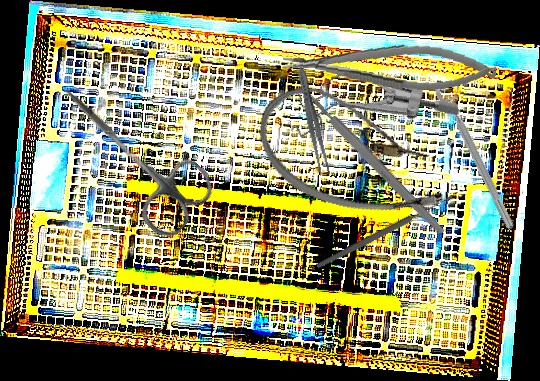Cannula: (244, 75, 464, 232)
Dressing Forceps: (293, 65, 333, 178)
Fixation Ring: (431, 74, 528, 233)
Iris Scissors: (35, 62, 222, 245)
Needle Holder: (281, 32, 498, 99)
Scalpel Handle: (303, 89, 448, 238)
Speculum: (276, 27, 462, 190)
Surgical Spoon: (315, 194, 454, 270)
